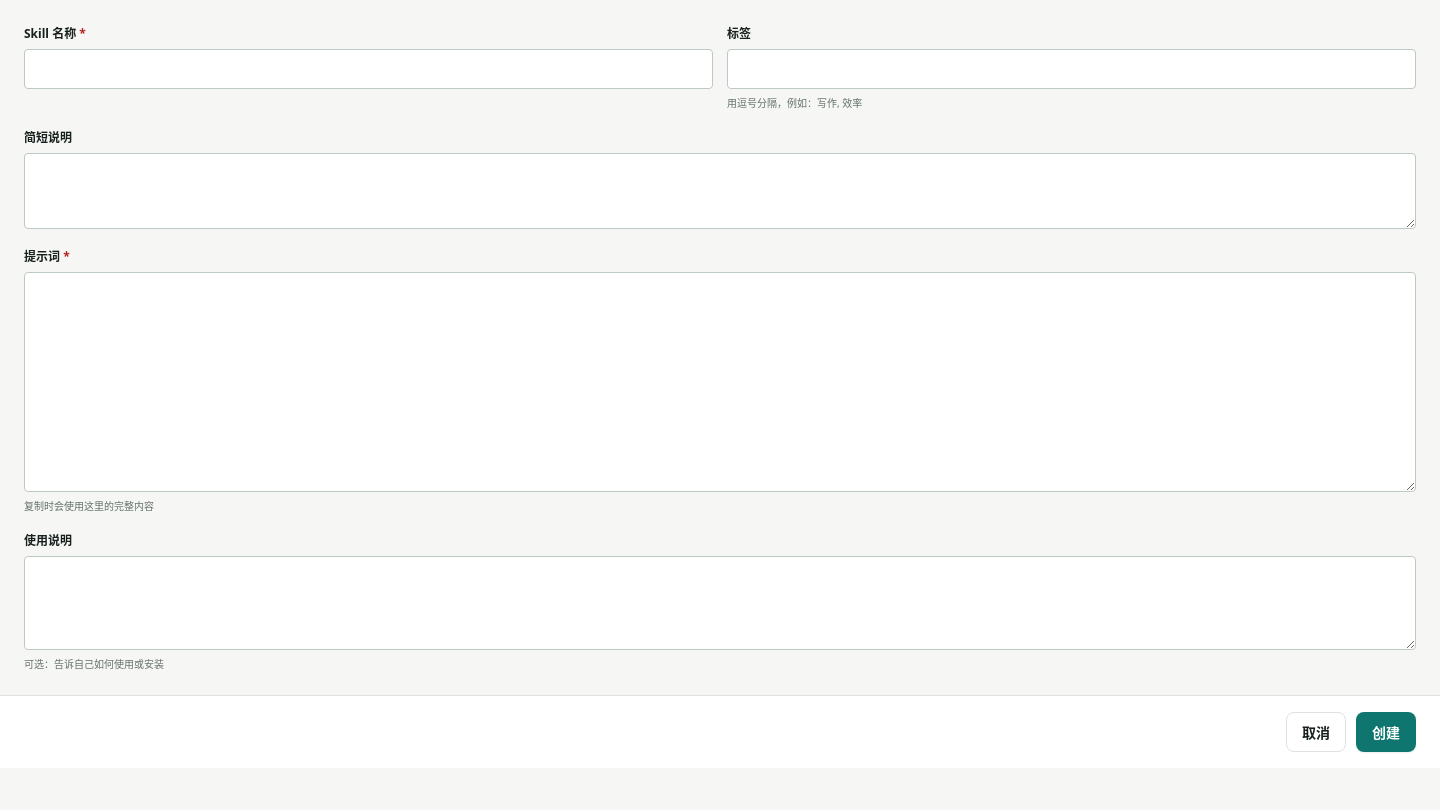
it: EntityEditor › explains missing required Skill fields and keeps the form open
The image size is (1440, 810).
Click the button "创建" at (1386, 732), box [1356,712,1416,752]
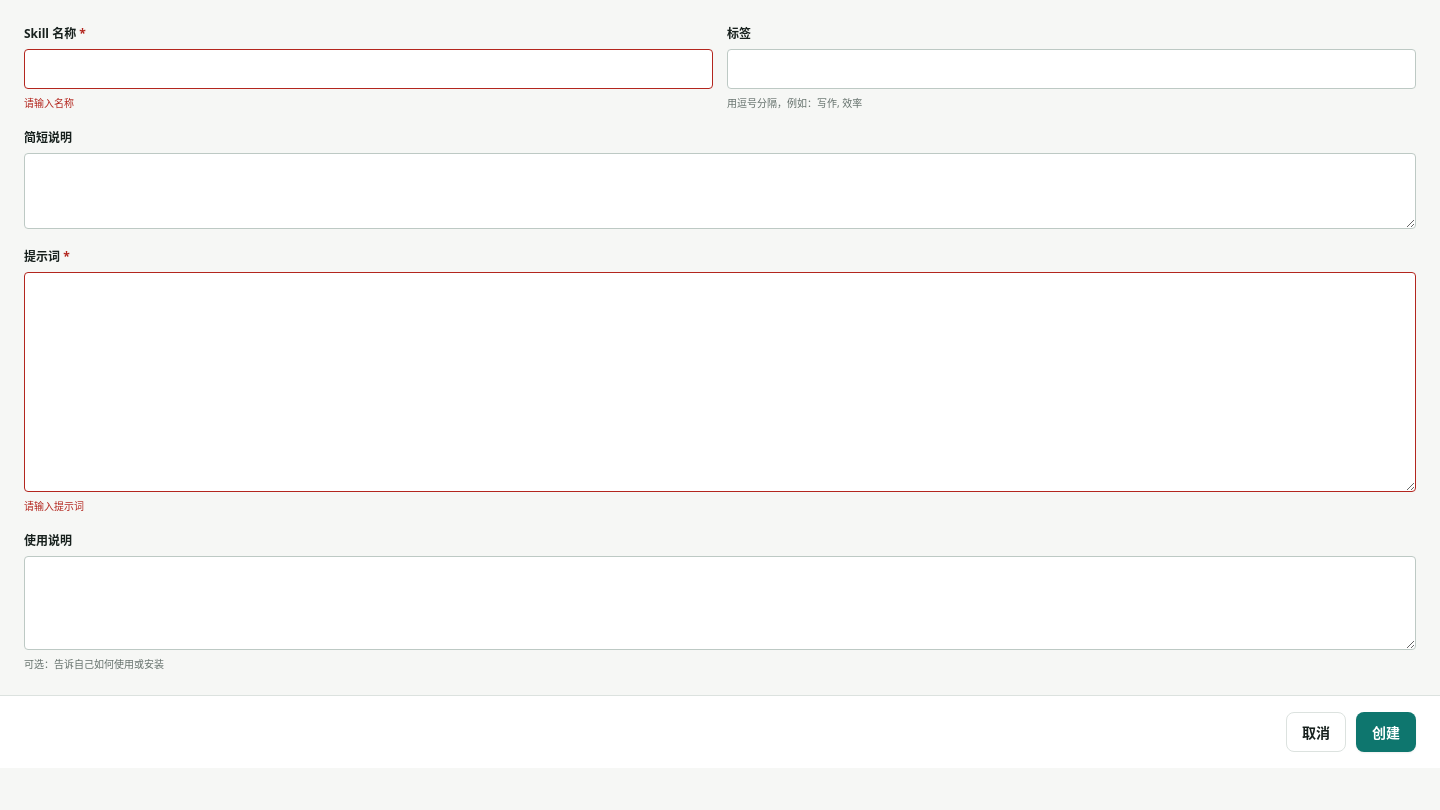
Check: the text "请输入名称" is shown, box [24,96,74,110]
Check: the text "请输入提示词" is shown, box [24,499,84,513]
